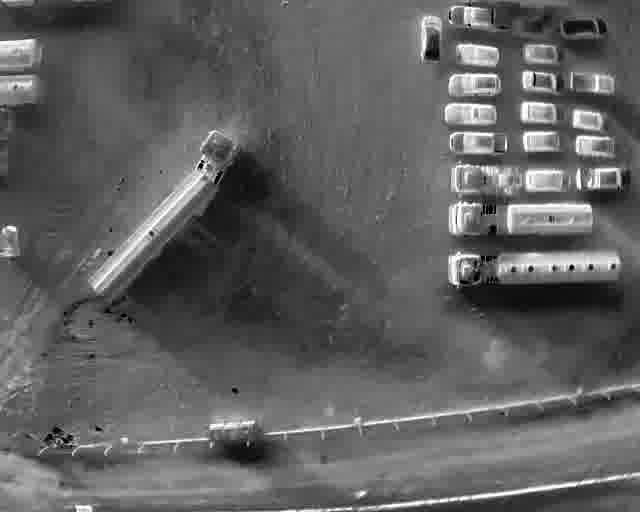car: (447, 3, 503, 33), (447, 72, 503, 100), (450, 130, 509, 155), (576, 166, 630, 192), (441, 104, 497, 128), (521, 68, 569, 94), (520, 42, 568, 68), (558, 17, 609, 41), (521, 129, 568, 155), (568, 71, 615, 97), (419, 15, 443, 64), (454, 44, 501, 68), (526, 169, 573, 192), (572, 109, 616, 131), (576, 136, 619, 157), (521, 101, 562, 123)
truck: (88, 128, 240, 302), (447, 249, 626, 287), (448, 200, 594, 237), (449, 164, 525, 196)
